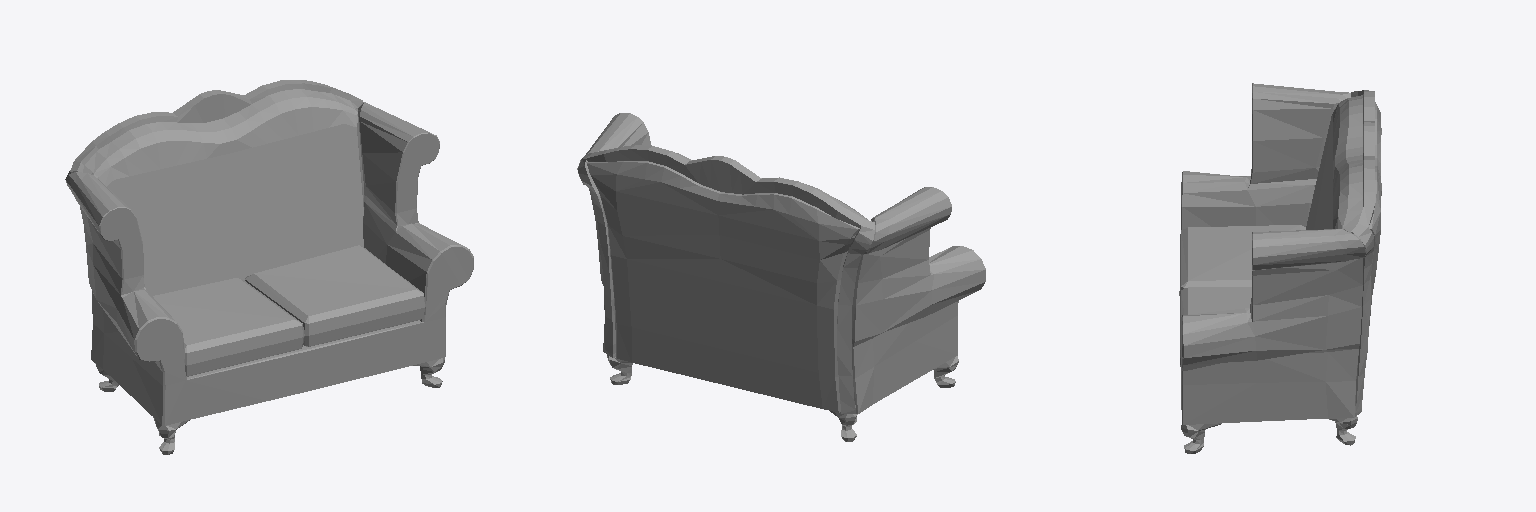
File: arm-chair.obj
3 views of the same model, side by side, from view 1: azimuth 30°, elevation 25°; view 2: azimuth 150°, elevation 25°; view 3: azimuth 270°, elevation 25° (orthographic).
Parts seen in each view (by area): view 1: Arm_Chair; view 2: Arm_Chair; view 3: Arm_Chair.
Boxes of the visible parts, box(x1,y1,x2,y2) form: Arm_Chair: box(65, 80, 473, 454); Arm_Chair: box(577, 113, 985, 441); Arm_Chair: box(1179, 83, 1381, 453).
Bounding box in the file's own units: 3.23 × 2.36 × 1.67.